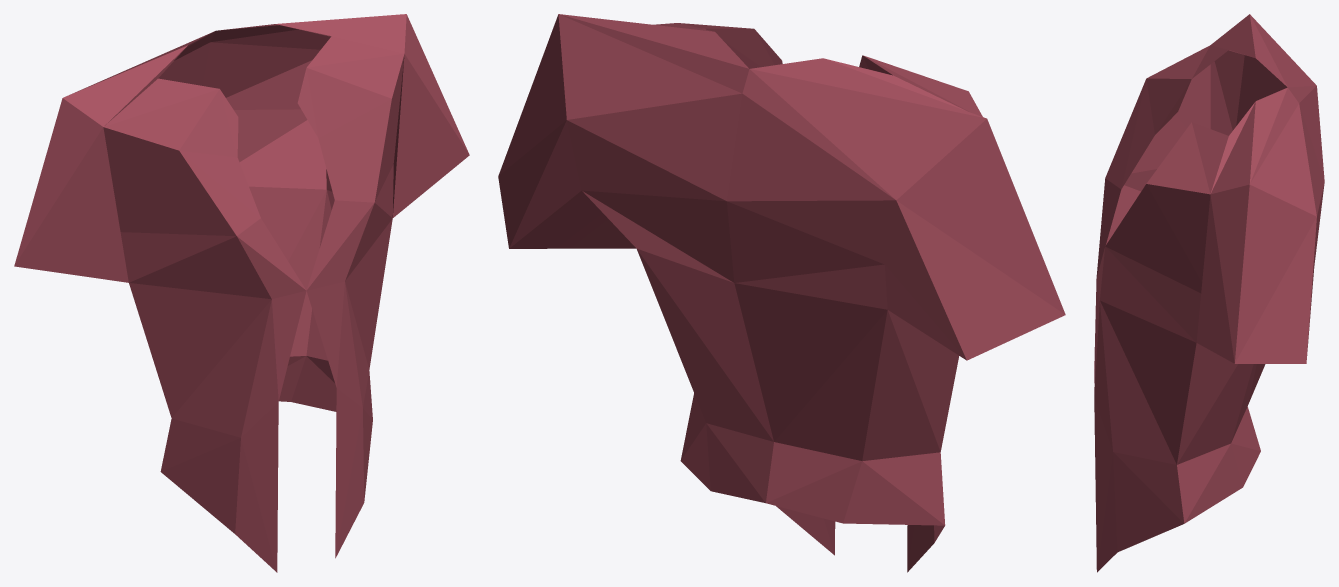
The model's file is doublet.glb.
The picture shows the model from 3 angles, left to right: view 1: azimuth 30°, elevation 25°; view 2: azimuth 150°, elevation 25°; view 3: azimuth 270°, elevation 25°; orthographic projection. The views are drawn at different scales.
Parts seen in each view (by area): view 1: BASE_Low Poly Man_0.001; view 2: BASE_Low Poly Man_0.001; view 3: BASE_Low Poly Man_0.001.
Part boxes in pixels (bbox=[...]): BASE_Low Poly Man_0.001: bbox=[14, 14, 469, 572]; BASE_Low Poly Man_0.001: bbox=[498, 14, 1065, 572]; BASE_Low Poly Man_0.001: bbox=[1094, 14, 1324, 572].
Size of the model in its own units: 2.06 by 2.04 by 0.8874.
